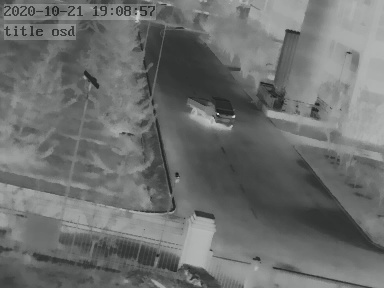person: (134, 8, 141, 22)
vehicle: (186, 94, 235, 127)
